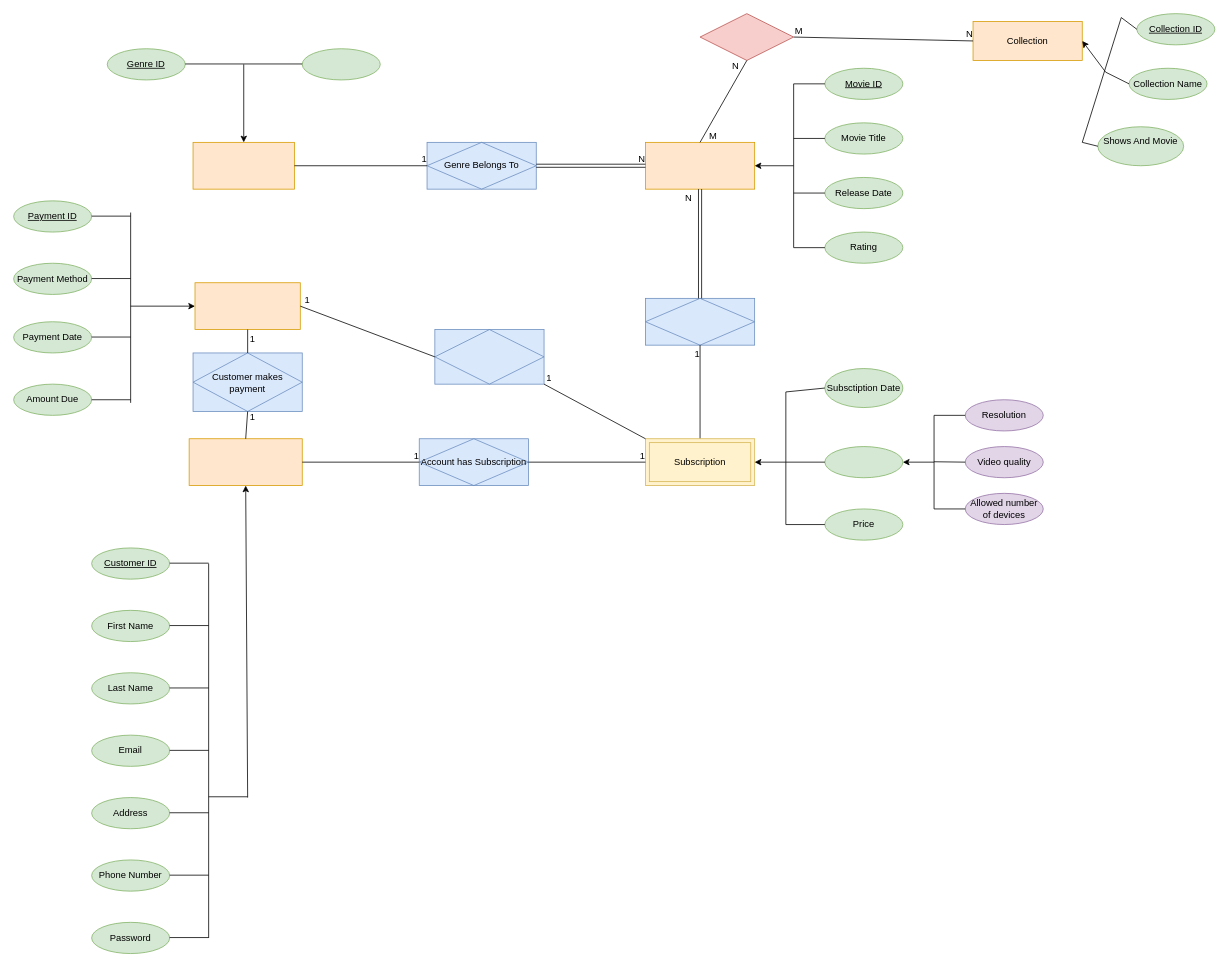
Some shapes in this 1229 by 967 pixel diagram are drawn without their labels. Each missing label, with the centre of its shape:
"Customer User Account" goes at (x=245, y=462).
"Genre" goes at (x=243, y=165).
"Genre Description" goes at (x=340, y=64).
"Has" goes at (x=746, y=36).
"Payment" goes at (x=247, y=306).
"Subscription For" goes at (x=700, y=321).
"Subscription Has Payment" goes at (x=489, y=356).
"Subscription Type" goes at (x=863, y=462).
"TV Shows and Movies" goes at (x=700, y=165).
